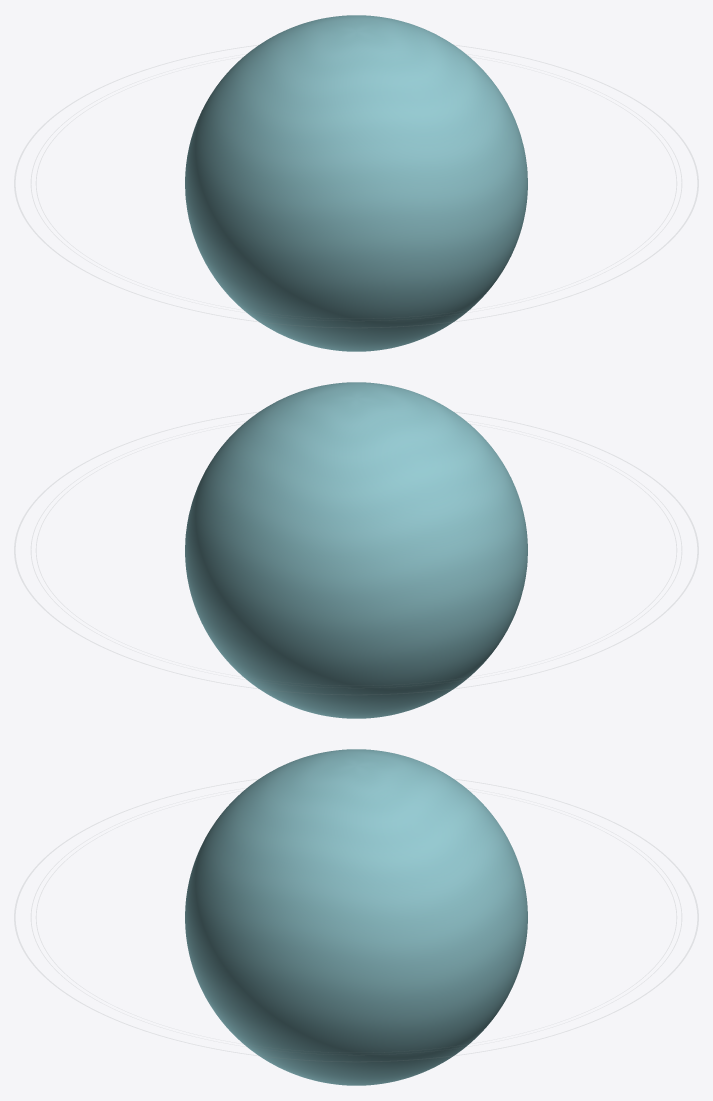
Rendered from uranus.glb.
The picture shows the model from 3 angles, top to bottom: view 1: azimuth 30°, elevation 25°; view 2: azimuth 150°, elevation 25°; view 3: azimuth 270°, elevation 25°; orthographic projection.
Parts seen in each view (by area): view 1: Uranus_Globe, Uranus_Ring_Epsilon; view 2: Uranus_Globe, Uranus_Ring_Epsilon; view 3: Uranus_Globe, Uranus_Ring_Epsilon.
Part boxes in pixels (x1,y1,x2,y2): Uranus_Globe: (185,15,527,351); Uranus_Ring_Epsilon: (14,46,698,327); Uranus_Globe: (185,382,527,718); Uranus_Ring_Epsilon: (14,413,698,694); Uranus_Globe: (185,749,527,1085); Uranus_Ring_Epsilon: (14,780,698,1061).
Bounding box in the file's own units: 2 × 0.9839 × 2.
Materials: 5 (1 with a texture image).
